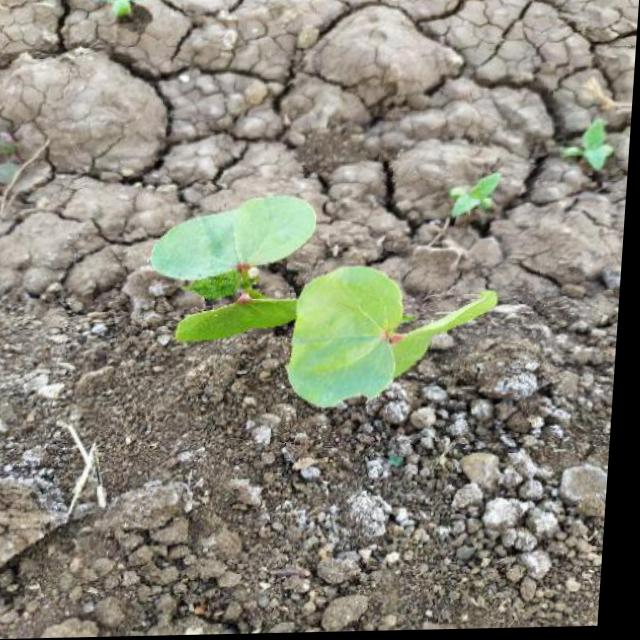weed: (142, 187, 516, 430)
